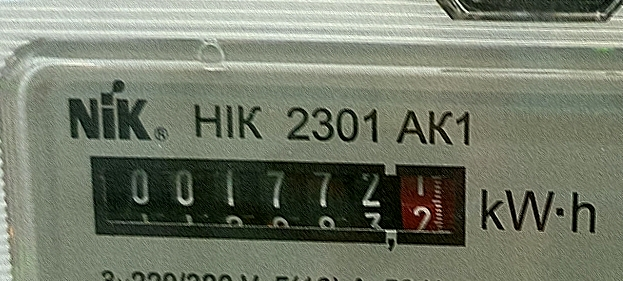0: (124, 163, 153, 205), (171, 166, 196, 206)
1: (220, 167, 238, 206), (412, 172, 427, 198)
2: (358, 171, 382, 208), (407, 202, 432, 232)
3: (361, 209, 384, 231)
7: (263, 167, 287, 209), (309, 169, 332, 208)
screen: (74, 136, 486, 264)
